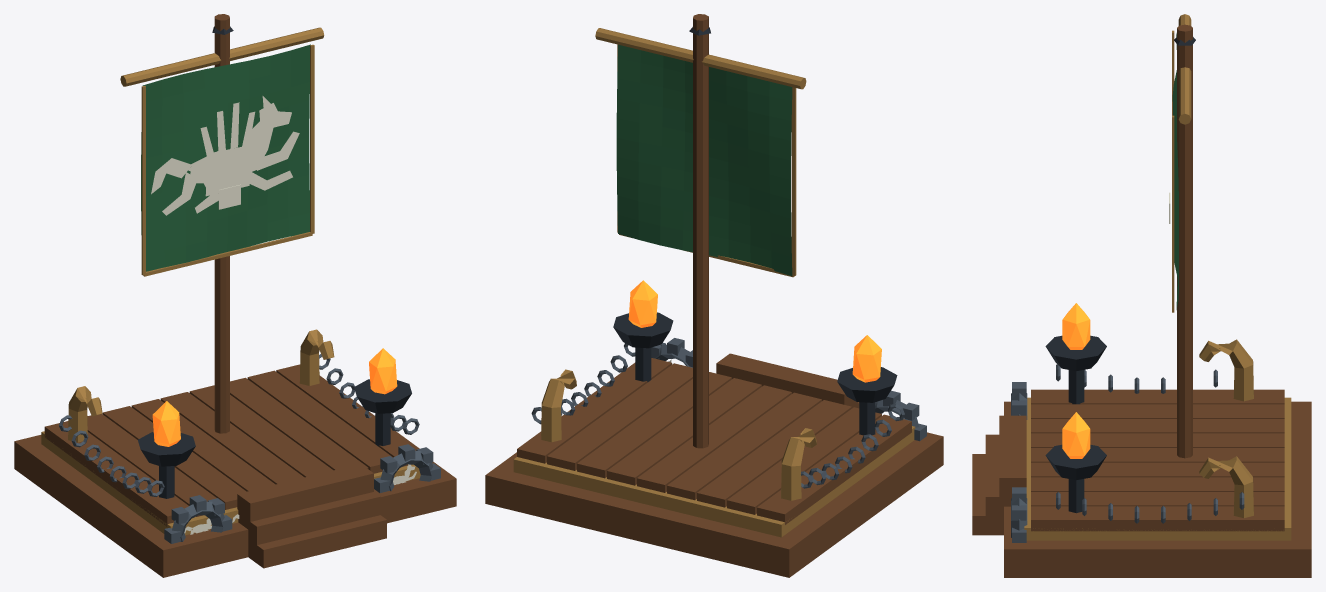
File: vado_nexos.glb
3 views of the same model, side by side, from view 1: azimuth 30°, elevation 25°; view 2: azimuth 150°, elevation 25°; view 3: azimuth 270°, elevation 25° (orthographic). The views are drawn at different scales.
Visible parts, largest first — view 1: nexo_rohan__estandarte, nexo_rohan__rock_smallA, nexo_rohan__rock_smallA.001, nexo_rohan__rock_smallA.011, nexo_rohan__mastil, nexo_rohan__rock_smallA.009, nexo_rohan__rock_smallA.002, nexo_rohan__rock_smallA.008, nexo_rohan__rock_smallA.006, nexo_rohan__rock_smallA.007, nexo_rohan__rock_smallA.005, nexo_rohan__rock_smallA.010 (+12 smaller); view 2: nexo_rohan__estandarte, nexo_rohan__rock_smallA, nexo_rohan__mastil, nexo_rohan__rock_smallA.001, nexo_rohan__rock_smallA.005, nexo_rohan__rock_smallA.009, nexo_rohan__rock_smallA.002, nexo_rohan__rock_smallA.006, nexo_rohan__rock_smallA.004, nexo_rohan__rock_smallA.008, nexo_rohan__rock_smallA.007, nexo_rohan__rock_smallA.010 (+11 smaller); view 3: nexo_rohan__rock_smallA, nexo_rohan__mastil, nexo_rohan__rock_smallA.010, nexo_rohan__rock_smallA.001, nexo_rohan__rock_smallA.003, nexo_rohan__rock_smallA.002, nexo_rohan__rock_smallA.008, nexo_rohan__rock_smallA.004, nexo_rohan__rock_smallA.009, nexo_rohan__rock_smallA.005, nexo_rohan__rock_smallA.007, nexo_rohan__rock_smallA.006 (+11 smaller).
Part boxes in pixels (x1,y1,x2,y2): nexo_rohan__estandarte: [141, 44, 314, 276]; nexo_rohan__rock_smallA: [14, 435, 456, 577]; nexo_rohan__rock_smallA.001: [41, 431, 420, 568]; nexo_rohan__rock_smallA.011: [237, 464, 373, 525]; nexo_rohan__mastil: [212, 14, 233, 433]; nexo_rohan__rock_smallA.009: [247, 370, 392, 473]; nexo_rohan__rock_smallA.002: [44, 421, 194, 526]; nexo_rohan__rock_smallA.008: [230, 377, 368, 470]; nexo_rohan__rock_smallA.006: [160, 392, 304, 484]; nexo_rohan__rock_smallA.007: [189, 385, 333, 477]; nexo_rohan__rock_smallA.005: [131, 399, 275, 491]; nexo_rohan__rock_smallA.010: [276, 364, 419, 466]; nexo_rohan__estandarte: [616, 44, 796, 277]; nexo_rohan__rock_smallA: [485, 402, 943, 577]; nexo_rohan__mastil: [689, 14, 710, 448]; nexo_rohan__rock_smallA.001: [513, 426, 915, 537]; nexo_rohan__rock_smallA.005: [667, 392, 821, 500]; nexo_rohan__rock_smallA.009: [547, 363, 692, 470]; nexo_rohan__rock_smallA.002: [757, 414, 911, 524]; nexo_rohan__rock_smallA.006: [637, 385, 791, 492]; nexo_rohan__rock_smallA.004: [697, 400, 851, 507]; nexo_rohan__rock_smallA.008: [577, 372, 731, 478]; nexo_rohan__rock_smallA.007: [607, 378, 761, 485]; nexo_rohan__rock_smallA.010: [517, 358, 671, 463]; nexo_rohan__rock_smallA: [985, 401, 1311, 577]; nexo_rohan__mastil: [1174, 24, 1195, 458]; nexo_rohan__rock_smallA.010: [1031, 506, 1284, 531]; nexo_rohan__rock_smallA.001: [972, 397, 1291, 540]; nexo_rohan__rock_smallA.003: [1031, 404, 1284, 418]; nexo_rohan__rock_smallA.002: [1031, 389, 1284, 404]; nexo_rohan__rock_smallA.008: [1031, 477, 1284, 491]; nexo_rohan__rock_smallA.004: [1031, 419, 1284, 433]; nexo_rohan__rock_smallA.009: [1031, 492, 1284, 506]; nexo_rohan__rock_smallA.005: [1031, 433, 1284, 447]; nexo_rohan__rock_smallA.007: [1031, 462, 1284, 477]; nexo_rohan__rock_smallA.006: [1031, 448, 1284, 462].
Size of the model in its own units: 4 by 6 by 3.88.
